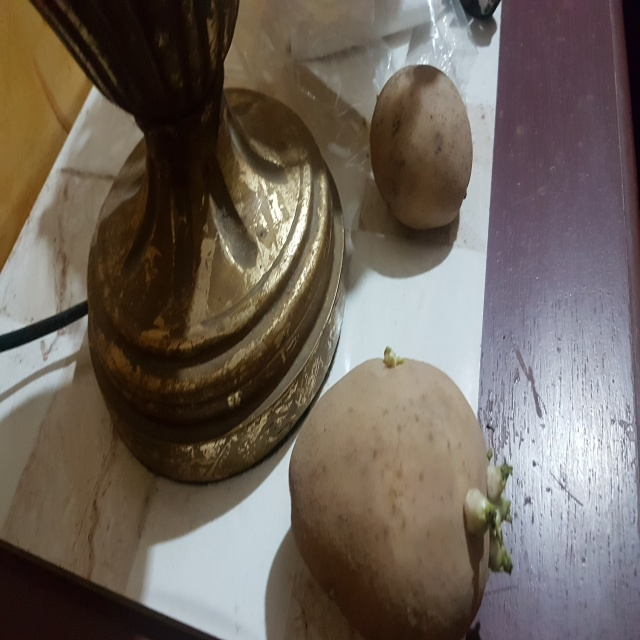potato: (281, 347, 519, 640), (368, 65, 475, 232)
